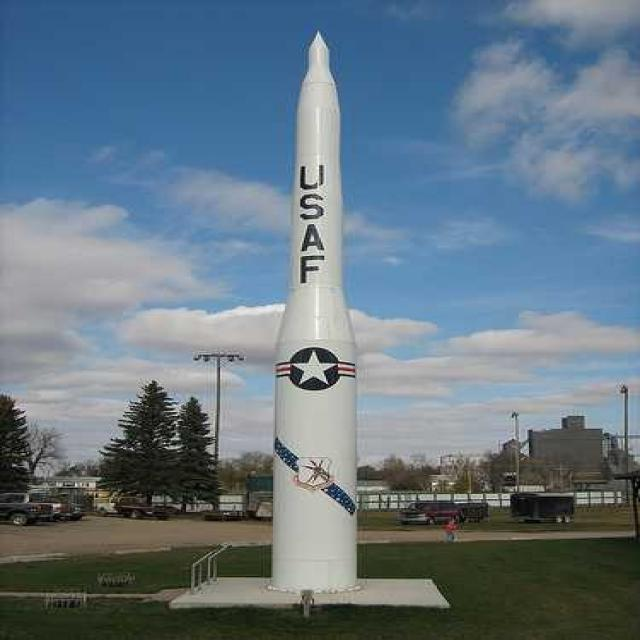missile: (272, 28, 379, 599)
